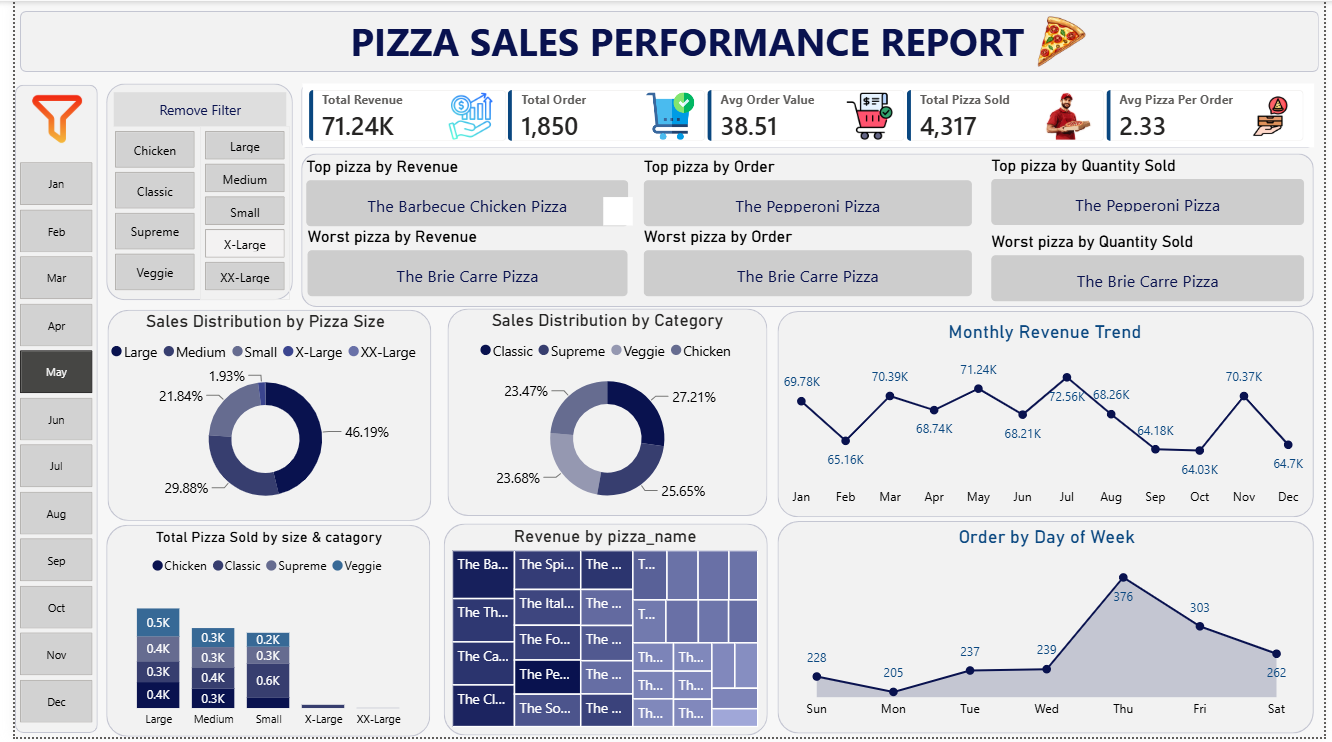

This screenshot's page, from the dashboard's own definition file:
{"tool":"powerbi","page":{"name":"DASHBOARD","canvas":[1280,720],"ordinal":0},"visuals":[{"type":"group","id":"g1","title":"Group 1","box":[0,8,1275.5,711.5],"z":0},{"type":"shape","box":[4.8,9.4,1270.7,59.6],"z":0,"group":"g1"},{"type":"cardVisual","fields":{"Data":["PIZZA_SALES.Total Revenue","PIZZA_SALES.total order","PIZZA_SALES.Average order Value","PIZZA_SALES.Total Pizza Sold","PIZZA_SALES.Average pizza per order"]},"box":[281.3,80.7,989.3,62.4],"z":1000},{"type":"shape","box":[280.1,80.9,989.4,62],"z":1000,"group":"g1"},{"type":"shape","box":[90.5,301.4,316.7,206.7],"z":2000,"group":"g1"},{"type":"lineChart","title":"Monthly Revenue Trend","fields":{"Category":["PIZZA_SALES.Month Name"],"Y":["PIZZA_SALES.Total Revenue"]},"box":[747.2,313,520.9,190.8],"z":2000},{"type":"shape","box":[89.2,80.1,182.6,212],"z":3000,"group":"g1"},{"type":"lineChart","title":"Order by Day of Week","fields":{"Y":["PIZZA_SALES.Total Order"],"Category":["PIZZA_SALES.Day Name"]},"box":[749.8,513.8,519.7,196.7],"z":3000},{"type":"shape","box":[0,80.9,81.1,634.2],"z":4000,"group":"g1"},{"type":"donutChart","title":"Sales Distribution by Category","fields":{"Category":["PIZZA_SALES.pizza_catagory"],"Y":["PIZZA_SALES.Total Revenue"]},"box":[414.5,303.3,317.9,203],"z":4000},{"type":"shape","box":[280.1,148.8,990.6,150.2],"z":5000,"group":"g1"},{"type":"donutChart","title":"Sales Distribution by Pizza Size","fields":{"Y":["PIZZA_SALES.Total Revenue"],"Category":["PIZZA_SALES.pizza_size"]},"box":[86.8,303.3,316.7,201.8],"z":5000},{"type":"advancedSlicerVisual","title":"Top pizza by Revenue","fields":{"Values":["PIZZA_SALES.pizza_name"]},"box":[280.1,152.6,325.4,72.7],"z":6000},{"type":"shape","box":[414.5,302.7,317.9,203],"z":6000,"group":"g1"},{"type":"shape","box":[745.9,302.7,524.6,201.8],"z":7000,"group":"g1"},{"type":"columnChart","title":"Total Pizza Sold by size & catagory","fields":{"Category":["PIZZA_SALES.pizza_size"],"Y":["PIZZA_SALES.Total Pizza Sold"],"Series":["PIZZA_SALES.pizza_catagory"]},"box":[93,516.1,311.1,203.8],"z":7000},{"type":"shape","box":[745.9,508.3,524.6,207.9],"z":8000,"group":"g1"},{"type":"treemap","title":"Revenue by pizza_name","fields":{"Group":["PIZZA_SALES.pizza_name"],"Values":["PIZZA_SALES.Total Revenue"]},"box":[423.2,513.8,308.7,201.5],"z":8000},{"type":"advancedSlicerVisual","title":"Worst pizza by Revenue","fields":{"Values":["PIZZA_SALES.pizza_name"]},"box":[281.9,221.6,323.9,72.9],"z":9000},{"type":"shape","box":[419.6,510,317.1,207.4],"z":9000,"group":"g1"},{"type":"advancedSlicerVisual","title":"Top pizza by Order","fields":{"Values":["PIZZA_SALES.pizza_name"]},"box":[610.3,152.6,331.4,72.7],"z":10000},{"type":"shape","box":[89.4,512.1,317.1,207.4],"z":10000,"group":"g1"},{"type":"actionButton","box":[96.5,88.5,168.9,33.6],"z":11000,"group":"g1"},{"type":"advancedSlicerVisual","title":"Worst pizza by Order","fields":{"Values":["PIZZA_SALES.pizza_name"]},"box":[610.3,221.7,331.4,72.7],"z":11000},{"type":"textbox","title":"PIZZA SALES PERFORMANCE REPORT","box":[4.8,8,1265.9,59.6],"z":12000,"group":"g1"},{"type":"advancedSlicerVisual","title":"Top pizza by Quantity Sold","fields":{"Values":["PIZZA_SALES.pizza_name"]},"box":[950.7,151.4,316.9,72.9],"z":12000},{"type":"advancedSlicerVisual","title":"Worst pizza by Quantity Sold","fields":{"Values":["PIZZA_SALES.pizza_name"]},"box":[950.7,225.8,316.9,72.9],"z":13000},{"type":"advancedSlicerVisual","fields":{"Values":["PIZZA_SALES.Month Name"]},"box":[0,152.6,81.1,566.2],"z":14000},{"type":"advancedSlicerVisual","fields":{"Values":["PIZZA_SALES.pizza_catagory"]},"box":[93,122.8,88.2,169.3],"z":15000},{"type":"advancedSlicerVisual","fields":{"Values":["PIZZA_SALES.pizza_size"]},"box":[181.2,122.8,88.2,169.3],"z":16000},{"type":"image","box":[4.8,81.1,72.7,67.9],"z":17000},{"type":"image","box":[973.4,11,97.8,58.7],"z":18000}]}

Visuals, with their boxes in screenshot pixels (x1, y1, x2, y2), scaled from the page's 1280x720 canvas onto the 1332x742 screenshot:
"Group 1" group: 0 8 1327 741
shape: 5 10 1327 71
cardVisual - PIZZA_SALES.Total Revenue x PIZZA_SALES.total order: 293 83 1322 147
shape: 291 83 1321 147
shape: 94 311 424 524
"Monthly Revenue Trend" lineChart: 778 323 1320 519
shape: 93 83 283 301
"Order by Day of Week" lineChart: 780 529 1321 732
shape: 0 83 84 737
"Sales Distribution by Category" donutChart: 431 313 762 522
shape: 291 153 1322 308
"Sales Distribution by Pizza Size" donutChart: 90 313 420 521
"Top pizza by Revenue" advancedSlicerVisual: 291 157 630 232
shape: 431 312 762 521
shape: 776 312 1322 520
"Total Pizza Sold by size & catagory" columnChart: 97 532 421 741
shape: 776 524 1322 738
"Revenue by pizza_name" treemap: 440 529 762 737
"Worst pizza by Revenue" advancedSlicerVisual: 293 228 630 303
shape: 437 526 767 739
"Top pizza by Order" advancedSlicerVisual: 635 157 980 232
shape: 93 528 423 741
actionButton: 100 91 276 126
"Worst pizza by Order" advancedSlicerVisual: 635 228 980 303
"PIZZA SALES PERFORMANCE REPORT" textbox: 5 8 1322 70
"Top pizza by Quantity Sold" advancedSlicerVisual: 989 156 1319 231
"Worst pizza by Quantity Sold" advancedSlicerVisual: 989 233 1319 308
advancedSlicerVisual - PIZZA_SALES.Month Name: 0 157 84 741
advancedSlicerVisual - PIZZA_SALES.pizza_catagory: 97 127 189 301
advancedSlicerVisual - PIZZA_SALES.pizza_size: 189 127 280 301
image: 5 84 81 154
image: 1013 11 1115 72
